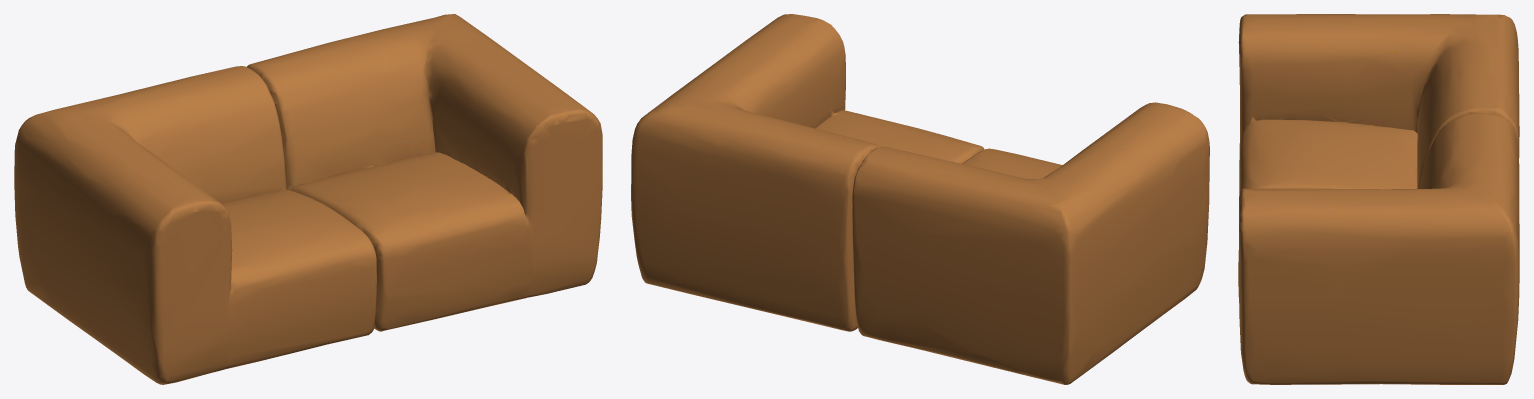
3 views of the same model, side by side, from view 1: azimuth 30°, elevation 25°; view 2: azimuth 150°, elevation 25°; view 3: azimuth 270°, elevation 25° (orthographic). The views are drawn at different scales.
Visible parts, largest first — view 1: ASY_ART_30586108_S01_NV01; view 2: ASY_ART_30586108_S01_NV01; view 3: ASY_ART_30586108_S01_NV01.
Part boxes in pixels (x1=…): ASY_ART_30586108_S01_NV01: x1=14, y1=14, x2=602, y2=384; ASY_ART_30586108_S01_NV01: x1=631, y1=14, x2=1209, y2=384; ASY_ART_30586108_S01_NV01: x1=1238, y1=14, x2=1519, y2=384.
Bounding box in the file's own units: 1.78 × 0.7 × 0.9901.
Materials: 1 (1 with a texture image).
